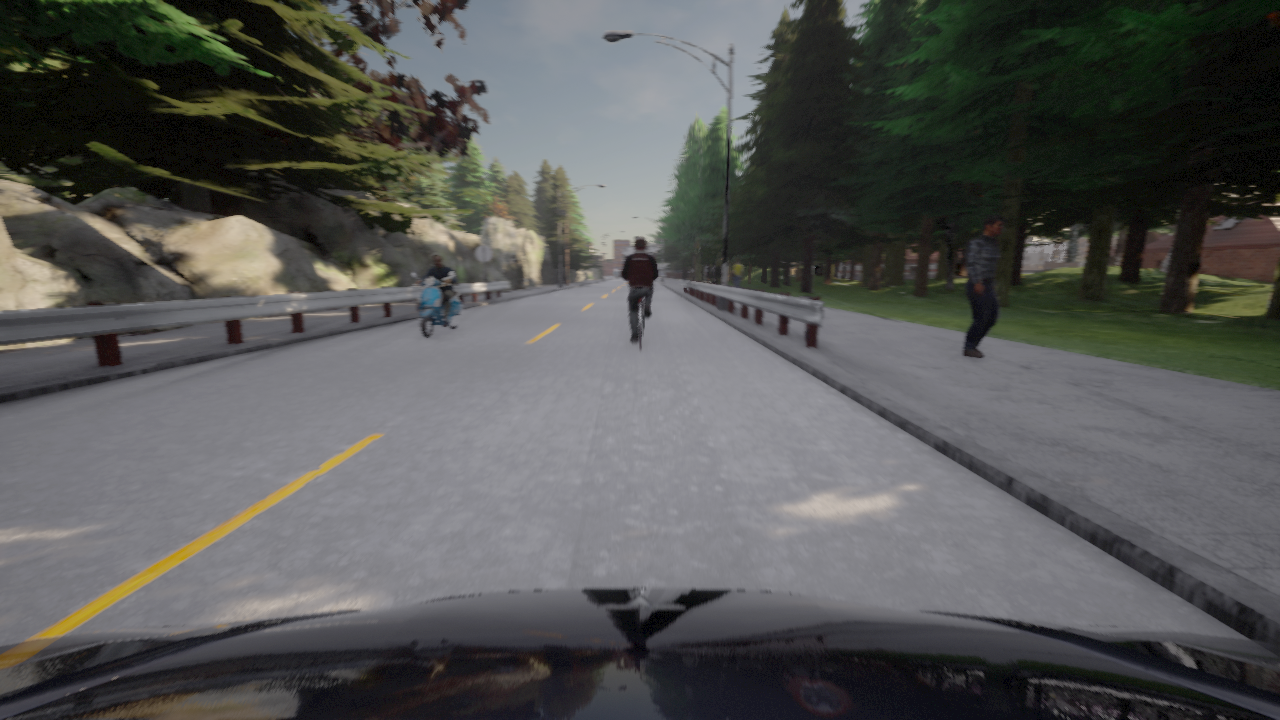cyclist: (0, 588, 1279, 719), (411, 272, 461, 337), (631, 298, 649, 349), (663, 273, 664, 274)
pedestrian: (962, 214, 1004, 358), (731, 258, 742, 287)
